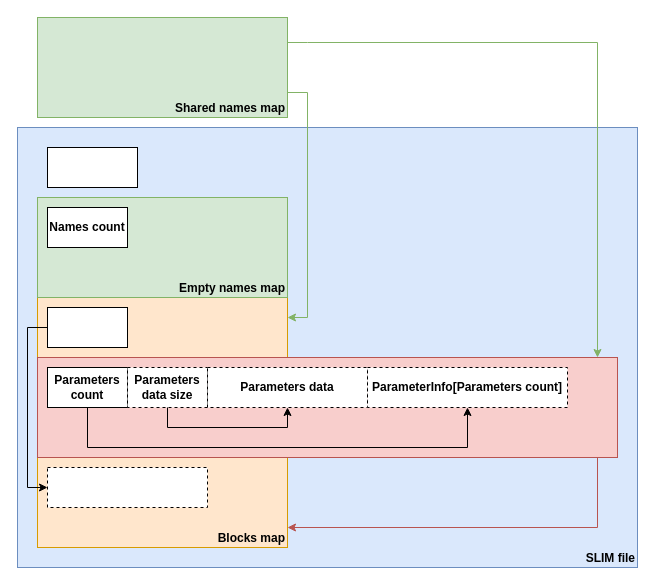
Image size: 655x585. Some labels were removed from this diagram. Here are the shapes that lost their labels. From the top down, the box of each, then its label:
(46, 146, 138, 188): FileType.SLIM
(46, 306, 128, 348): Blocks count
(36, 356, 618, 458): Parameters map
(46, 466, 208, 508): BlockInfo[Blocks count]
